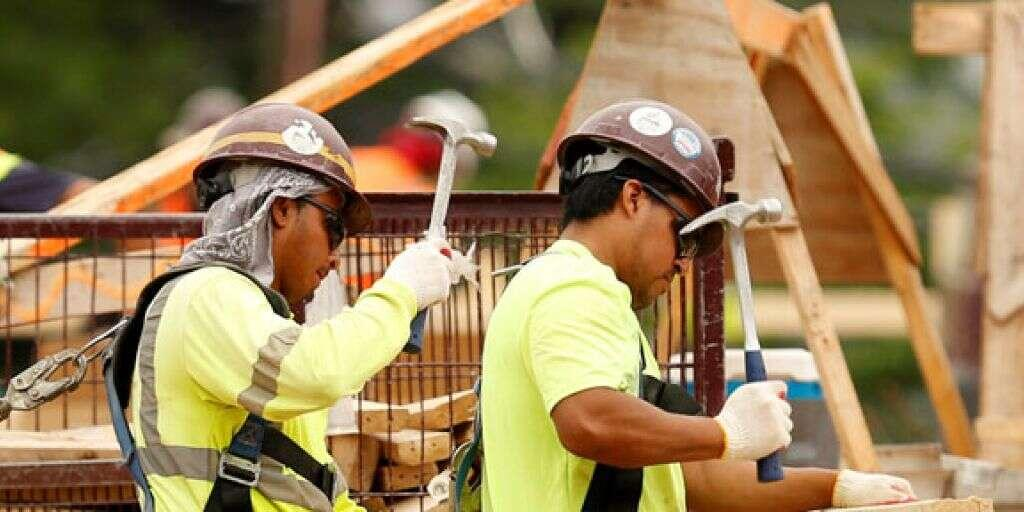helmet: (555, 97, 727, 257), (190, 101, 373, 241)
